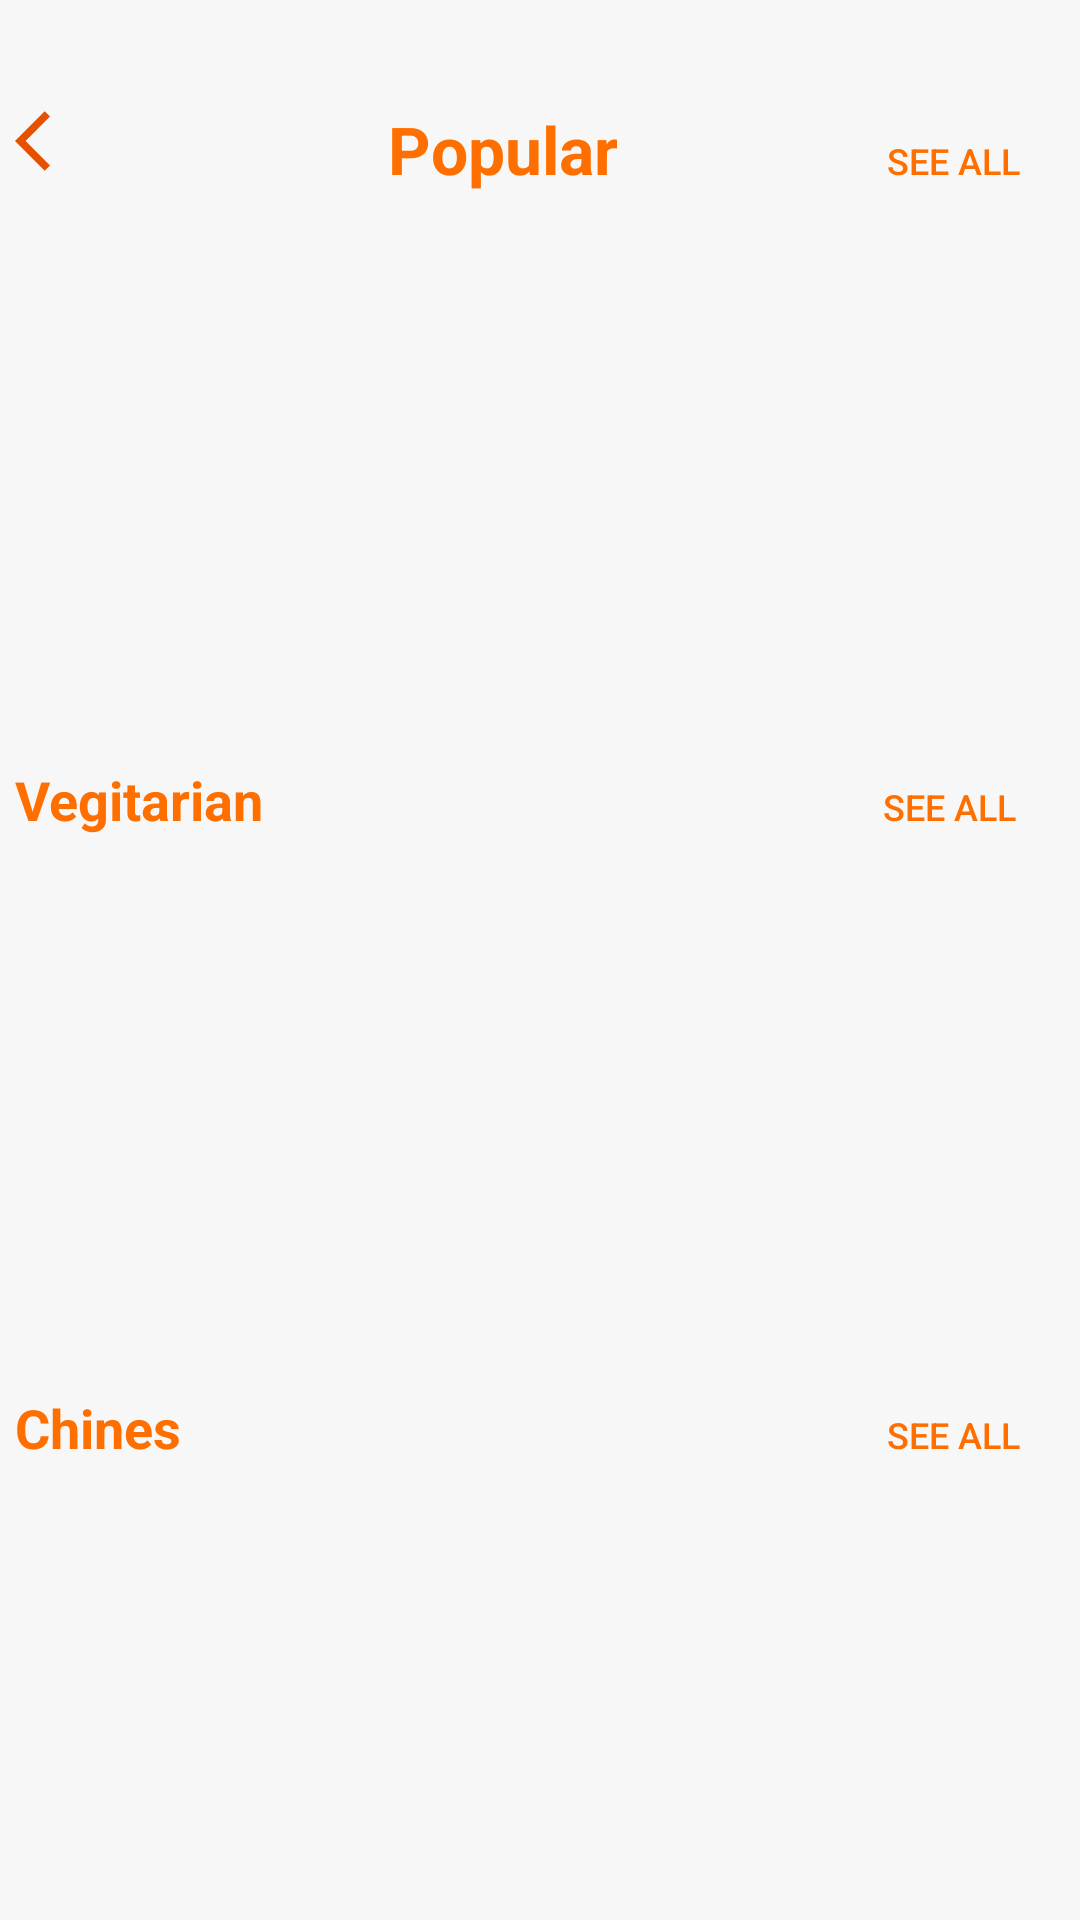

Point at icon controls on the screen. Image size 1080*1920, points as (x=x, y=y).
arrow back: (x=32, y=141)
